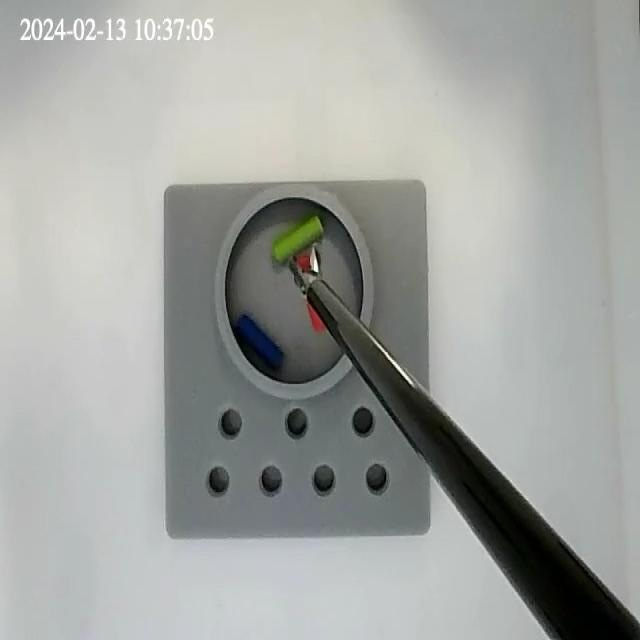EmptyHole: (217, 403, 243, 439), (352, 404, 376, 440), (258, 463, 284, 496), (286, 406, 310, 440), (364, 462, 388, 494), (312, 464, 336, 495), (207, 465, 229, 495)
